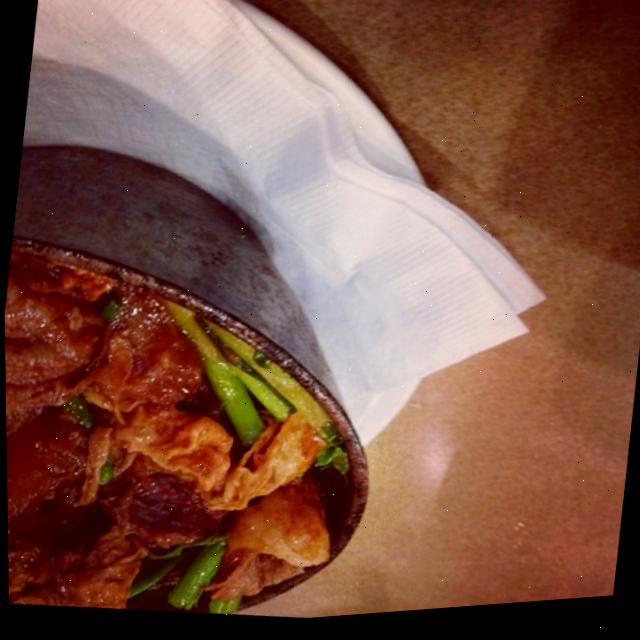汤锅炖物: (2, 134, 428, 640)
